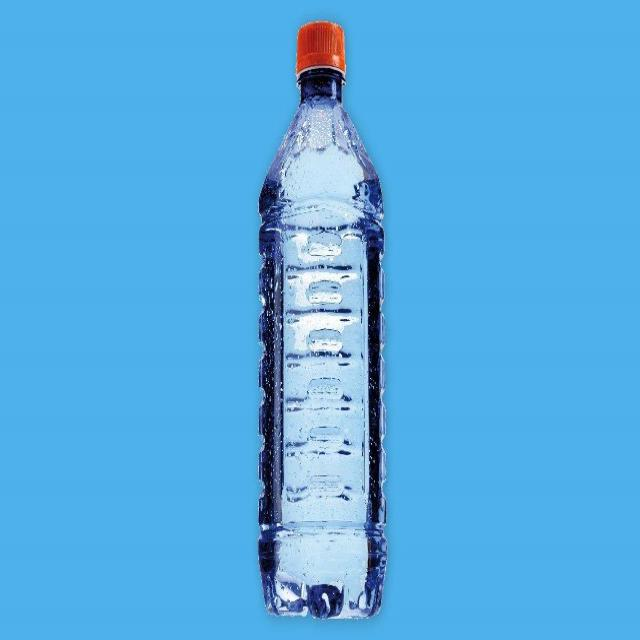plastic_bottle: (254, 23, 393, 625)
